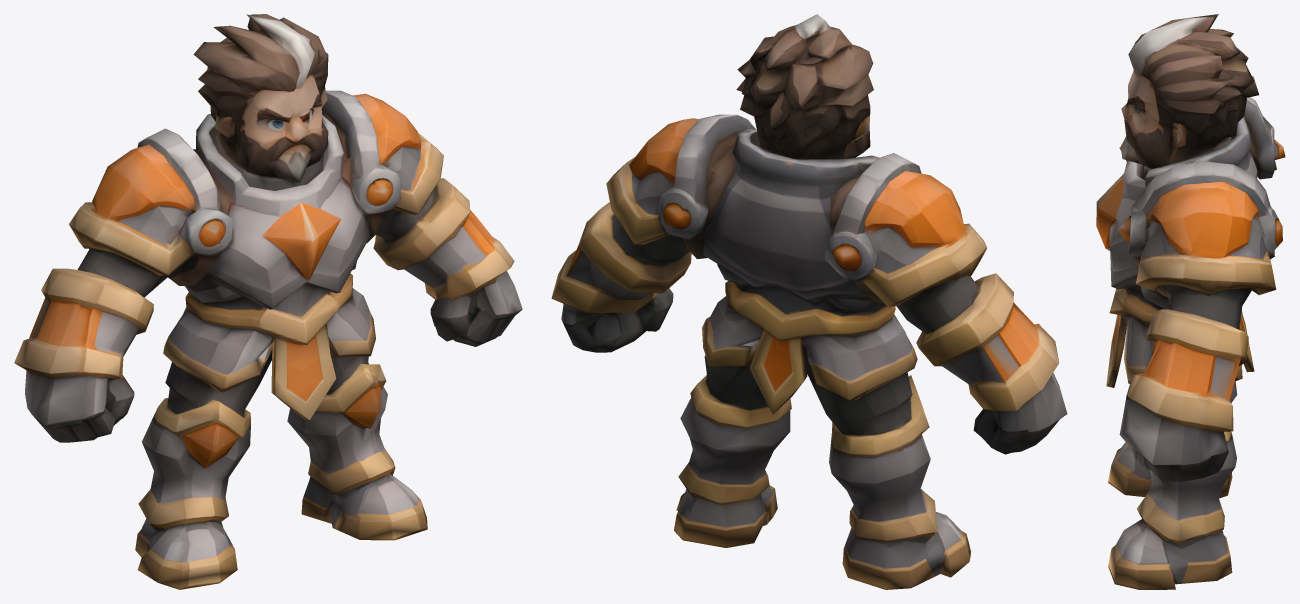
File: brakk_front.glb
The picture shows the model from 3 angles, left to right: view 1: azimuth 30°, elevation 25°; view 2: azimuth 150°, elevation 25°; view 3: azimuth 270°, elevation 25°; orthographic projection. The views are drawn at different scales.
Parts seen in each view (by area): view 1: tripo_node_610504a1-5942-401e-af30-51abc522468b; view 2: tripo_node_610504a1-5942-401e-af30-51abc522468b; view 3: tripo_node_610504a1-5942-401e-af30-51abc522468b.
Part boxes in pixels (box(x1,y1,x2,y2)): tripo_node_610504a1-5942-401e-af30-51abc522468b: box(14, 14, 522, 589); tripo_node_610504a1-5942-401e-af30-51abc522468b: box(551, 14, 1067, 589); tripo_node_610504a1-5942-401e-af30-51abc522468b: box(1096, 14, 1285, 589).
Size of the model in its own units: 0.9688 by 0.9992 by 0.3398.
1 material, 1 textured.
